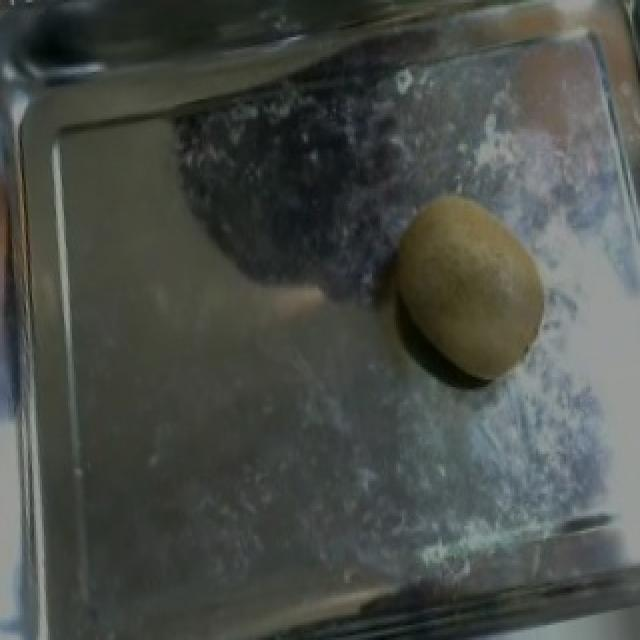Fruit: (362, 171, 574, 402)
